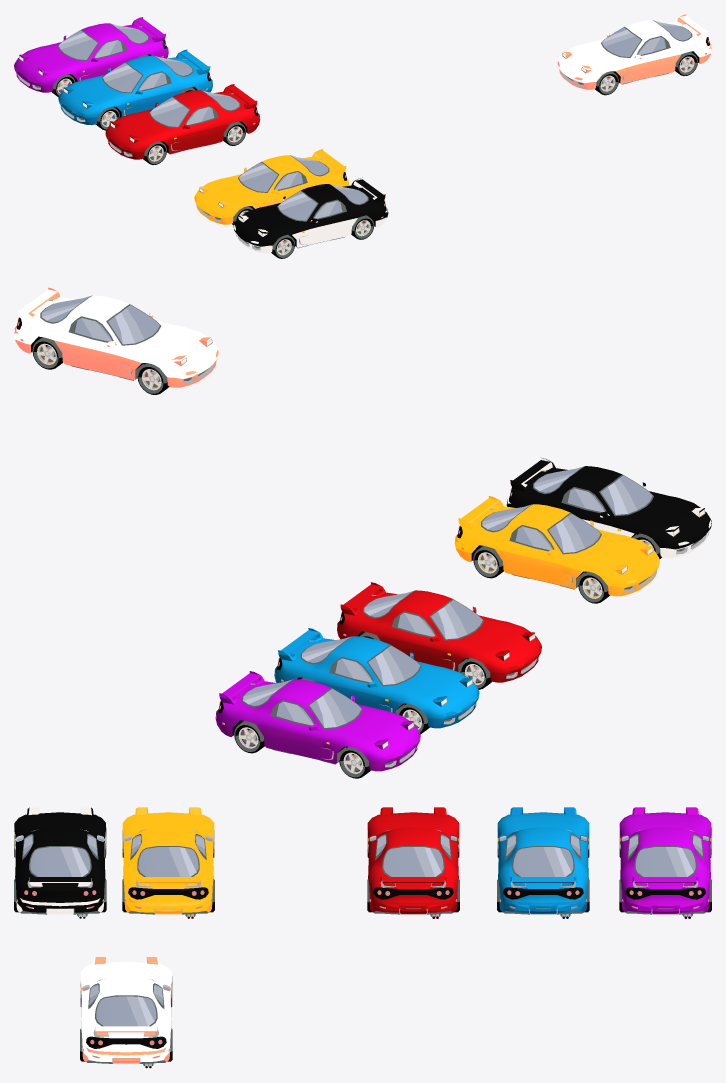
File: RX7sAnim1.fbx
3 views of the same model, one above another, from view 1: azimuth 30°, elevation 25°; view 2: azimuth 150°, elevation 25°; view 3: azimuth 270°, elevation 25° (orthographic). The views are drawn at different scales.
Parts seen in each view (by area): view 1: Low Poly Rx7.002, Low Poly Rx7.037, Low Poly Rx7.005, Low Poly Rx7.003, Low Poly Rx7.004, Low Poly Rx7.001; view 2: Low Poly Rx7.004, Low Poly Rx7.037, Low Poly Rx7.001, Low Poly Rx7.002, Low Poly Rx7.003, Low Poly Rx7.005; view 3: Low Poly Rx7.004, Low Poly Rx7.001, Low Poly Rx7.002, Low Poly Rx7.003, Low Poly Rx7.005, Low Poly Rx7.037.
Part boxes in pixels (left/top/right/bottom): Low Poly Rx7.002: left=105, top=84, right=260, bottom=164; Low Poly Rx7.037: left=557, top=14, right=711, bottom=95; Low Poly Rx7.005: left=233, top=177, right=388, bottom=258; Low Poly Rx7.003: left=58, top=49, right=212, bottom=130; Low Poly Rx7.004: left=14, top=17, right=168, bottom=97; Low Poly Rx7.001: left=194, top=149, right=348, bottom=225; Low Poly Rx7.004: left=215, top=671, right=420, bottom=778; Low Poly Rx7.037: left=14, top=287, right=218, bottom=394; Low Poly Rx7.001: left=454, top=496, right=659, bottom=603; Low Poly Rx7.002: left=337, top=582, right=541, bottom=689; Low Poly Rx7.003: left=274, top=628, right=479, bottom=734; Low Poly Rx7.005: left=506, top=458, right=711, bottom=558; Low Poly Rx7.004: left=619, top=807, right=711, bottom=918; Low Poly Rx7.001: left=122, top=807, right=214, bottom=918; Low Poly Rx7.002: left=367, top=807, right=459, bottom=918; Low Poly Rx7.003: left=497, top=807, right=589, bottom=918; Low Poly Rx7.005: left=14, top=807, right=106, bottom=918; Low Poly Rx7.037: left=80, top=957, right=172, bottom=1068.
Size of what is drawn, in the model's own units: 2019 by 414 by 1823.
